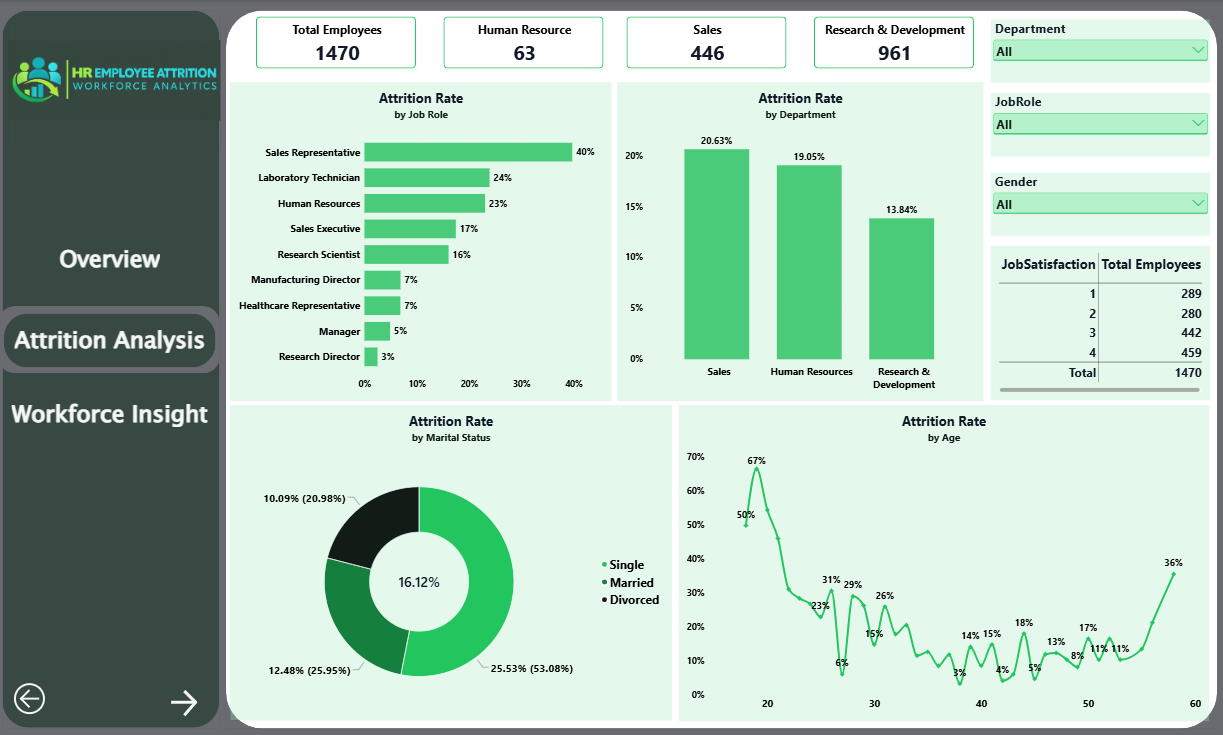

The dashboard page shown, as its layout file describes it:
{"tool":"powerbi","page":{"name":"Attrition Analysis","canvas":[2500,1500],"ordinal":1},"visuals":[{"type":"shape","box":[10,21.7,441.7,1461.7],"z":0},{"type":"shape","box":[463.3,20,2020,1463.3],"z":1000},{"type":"shape","box":[0,623.7,452.5,137.6],"z":2000},{"type":"actionButton","box":[13.3,790,431.1,110.1],"z":3000},{"type":"actionButton","box":[13.3,640,431.1,110.1],"z":4000},{"type":"image","box":[20,31.7,431.7,266.7],"z":5000},{"type":"barChart","title":"Attrition Rate","fields":{"Category":["HR.JobRole"],"Y":["HR.Attrition Rate"]},"box":[473.9,168.1,776.5,648.1],"z":6000},{"type":"cardVisual","fields":{"Data":["HR-Employee.Total_Employees"]},"box":[526.7,33.3,326.7,106.7],"z":7000},{"type":"columnChart","title":"Attrition Rate","fields":{"Category":["HR.Department"],"Y":["HR.Attrition Rate"]},"box":[1262.6,168.1,745.9,648.1],"z":8000},{"type":"cardVisual","fields":{"Data":["HR.Human Resource"]},"box":[906.7,33.3,326.7,106.7],"z":9000},{"type":"cardVisual","fields":{"Data":["HR.Sales"]},"box":[1280,33.3,326.7,106.7],"z":10000},{"type":"cardVisual","fields":{"Data":["HR.Research & Development"]},"box":[1661.7,33.3,326.7,106.7],"z":11000},{"type":"tableEx","title":"Count of Employee","fields":{"Values":["HR.JobSatisfaction","HR.Total Employees"]},"box":[2023.8,502.5,446.2,313.8],"z":12000},{"type":"slicer","title":"Count of Employee","fields":{"Values":["HR.Department"]},"box":[2023.8,38.8,446.2,128.8],"z":13000},{"type":"slicer","title":"Count of Employee","fields":{"Values":["HR.Gender"]},"box":[2023.8,351.2,446,128],"z":14000},{"type":"slicer","title":"Count of Employee","fields":{"Values":["HR.JobRole"]},"box":[2023.8,190,446.2,128.8],"z":15000},{"type":"donutChart","title":"Attrition Rate","fields":{"Y":["HR.Attrition Rate"],"Category":["HR.MaritalStatus"]},"box":[473.9,825.4,898.8,642],"z":16000},{"type":"lineChart","title":"Attrition Rate","fields":{"Y":["HR.Attrition Rate"],"Category":["HR.Age"]},"box":[1388,826,1080,644],"z":17000},{"type":"actionButton","box":[11.7,473.3,431.1,110.1],"z":18000},{"type":"actionButton","box":[25,1385,78.8,76.2],"z":19000},{"type":"actionButton","box":[346.7,1393.3,64.8,77.1],"z":20000}]}

Visuals, with their boxes in screenshot pixels (x1, y1, x2, y2), scaled from the page's 2500x1500 canvas onto the 1223x735 screenshot:
shape: {"left": 5, "top": 11, "right": 221, "bottom": 727}
shape: {"left": 227, "top": 10, "right": 1215, "bottom": 727}
shape: {"left": 0, "top": 306, "right": 221, "bottom": 373}
actionButton: {"left": 7, "top": 387, "right": 217, "bottom": 441}
actionButton: {"left": 7, "top": 314, "right": 217, "bottom": 368}
image: {"left": 10, "top": 16, "right": 221, "bottom": 146}
"Attrition Rate" barChart: {"left": 232, "top": 82, "right": 612, "bottom": 400}
cardVisual - HR-Employee.Total_Employees: {"left": 258, "top": 16, "right": 417, "bottom": 69}
"Attrition Rate" columnChart: {"left": 618, "top": 82, "right": 983, "bottom": 400}
cardVisual - HR.Human Resource: {"left": 444, "top": 16, "right": 603, "bottom": 69}
cardVisual - HR.Sales: {"left": 626, "top": 16, "right": 786, "bottom": 69}
cardVisual - HR.Research & Development: {"left": 813, "top": 16, "right": 973, "bottom": 69}
"Count of Employee" tableEx: {"left": 990, "top": 246, "right": 1208, "bottom": 400}
"Count of Employee" slicer: {"left": 990, "top": 19, "right": 1208, "bottom": 82}
"Count of Employee" slicer: {"left": 990, "top": 172, "right": 1208, "bottom": 235}
"Count of Employee" slicer: {"left": 990, "top": 93, "right": 1208, "bottom": 156}
"Attrition Rate" donutChart: {"left": 232, "top": 404, "right": 672, "bottom": 719}
"Attrition Rate" lineChart: {"left": 679, "top": 405, "right": 1207, "bottom": 720}
actionButton: {"left": 6, "top": 232, "right": 217, "bottom": 286}
actionButton: {"left": 12, "top": 679, "right": 51, "bottom": 716}
actionButton: {"left": 170, "top": 683, "right": 201, "bottom": 720}
